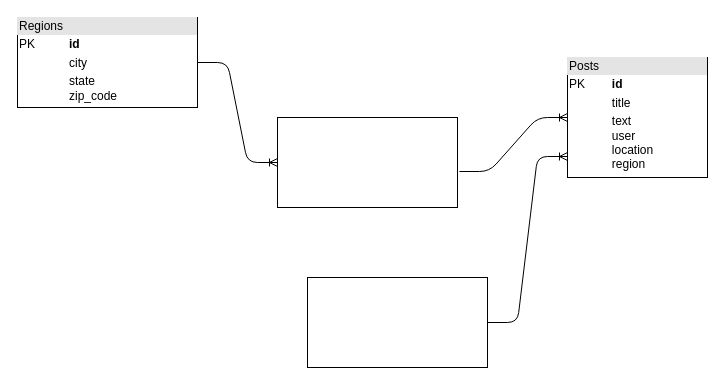
This 725x385 diagram has some shape labels left out. The centre of each missing label's shape, as x and y in pixels:
Categories PK id FK1 post_id name description: point (397, 322)
Users PK id FK1, FK2 region_id, post_id name preferred_region: point (367, 162)
